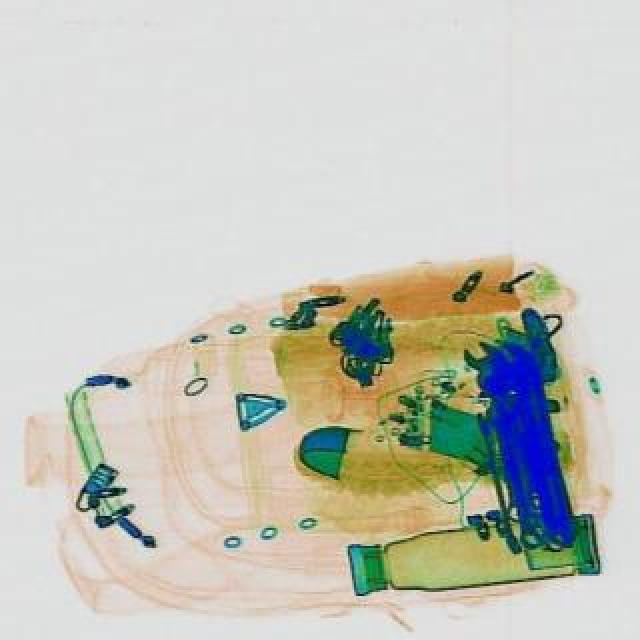wrench: (458, 336, 548, 552)
